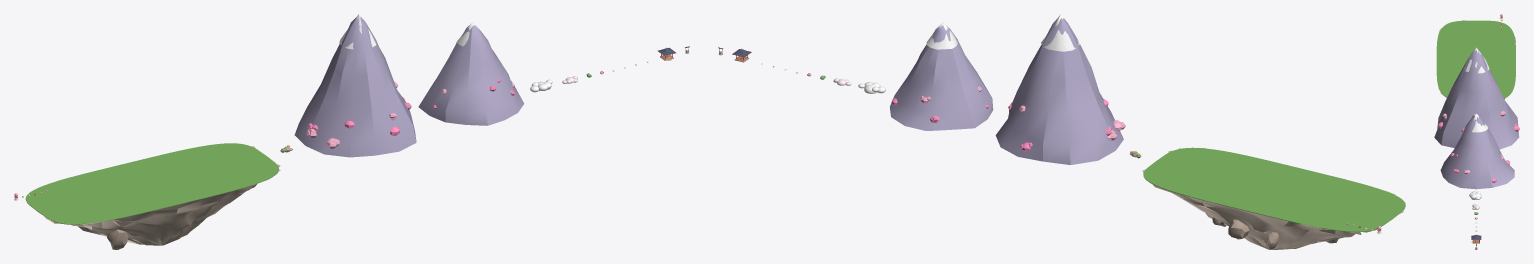
File: Sakura_Pack.fbx
The picture shows the model from 3 angles, left to right: view 1: azimuth 30°, elevation 25°; view 2: azimuth 150°, elevation 25°; view 3: azimuth 270°, elevation 25°; orthographic projection. The views are drawn at different scales.
Visible parts, largest first — view 1: SakuraIsland__Turf__7AB45CGR, SakuraMountainA__Rock__B7AECFSP, SakuraMountainB__Rock__B7AECFSP, SakuraIsland__Rock__CDBDAESP; view 2: SakuraIsland__Turf__7AB45CGR, SakuraMountainA__Rock__B7AECFSP, SakuraMountainB__Rock__B7AECFSP, SakuraIsland__Rock__CDBDAESP, SakuraIsland__Hang__AE9C8FSP, SakuraMountainA__Snow__FFFFFFSP, SakuraMountainB__Snow__FFFFFFSP; view 3: SakuraMountainA__Rock__B7AECFSP, SakuraIsland__Turf__7AB45CGR, SakuraMountainB__Rock__B7AECFSP, SakuraMountainA__Snow__FFFFFFSP, SakuraMountainB__Snow__FFFFFFSP, SakuraCloudA__Puff__FFFFFFSP, SakuraMountainB__Blossom__FF92C2SP, SakuraMountainA__Blossom__FF92C2SP.
Part boxes in pixels (x1=…): SakuraIsland__Turf__7AB45CGR: x1=25, y1=143, x2=278, y2=224; SakuraMountainA__Rock__B7AECFSP: x1=294, y1=17, x2=416, y2=157; SakuraMountainB__Rock__B7AECFSP: x1=418, y1=25, x2=524, y2=125; SakuraIsland__Rock__CDBDAESP: x1=43, y1=146, x2=280, y2=245; SakuraIsland__Turf__7AB45CGR: x1=1143, y1=147, x2=1405, y2=232; SakuraMountainA__Rock__B7AECFSP: x1=995, y1=18, x2=1123, y2=164; SakuraMountainB__Rock__B7AECFSP: x1=890, y1=25, x2=993, y2=130; SakuraIsland__Rock__CDBDAESP: x1=1142, y1=147, x2=1403, y2=249; SakuraIsland__Hang__AE9C8FSP: x1=1212, y1=217, x2=1338, y2=249; SakuraMountainA__Snow__FFFFFFSP: x1=1041, y1=14, x2=1079, y2=51; SakuraMountainB__Snow__FFFFFFSP: x1=926, y1=22, x2=957, y2=49; SakuraMountainA__Rock__B7AECFSP: x1=1434, y1=50, x2=1519, y2=149; SakuraIsland__Turf__7AB45CGR: x1=1436, y1=20, x2=1515, y2=98; SakuraMountainB__Rock__B7AECFSP: x1=1440, y1=115, x2=1514, y2=189; SakuraMountainA__Snow__FFFFFFSP: x1=1464, y1=47, x2=1489, y2=73; SakuraMountainB__Snow__FFFFFFSP: x1=1472, y1=113, x2=1487, y2=132; SakuraCloudA__Puff__FFFFFFSP: x1=1469, y1=191, x2=1481, y2=199; SakuraMountainB__Blossom__FF92C2SP: x1=1450, y1=153, x2=1509, y2=183; SakuraMountainA__Blossom__FF92C2SP: x1=1438, y1=122, x2=1519, y2=132.
Bounding box in the file's own units: 870 × 229 × 135.
